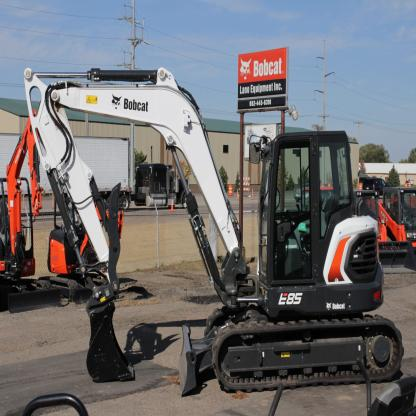excavator: (20, 37, 408, 388)
